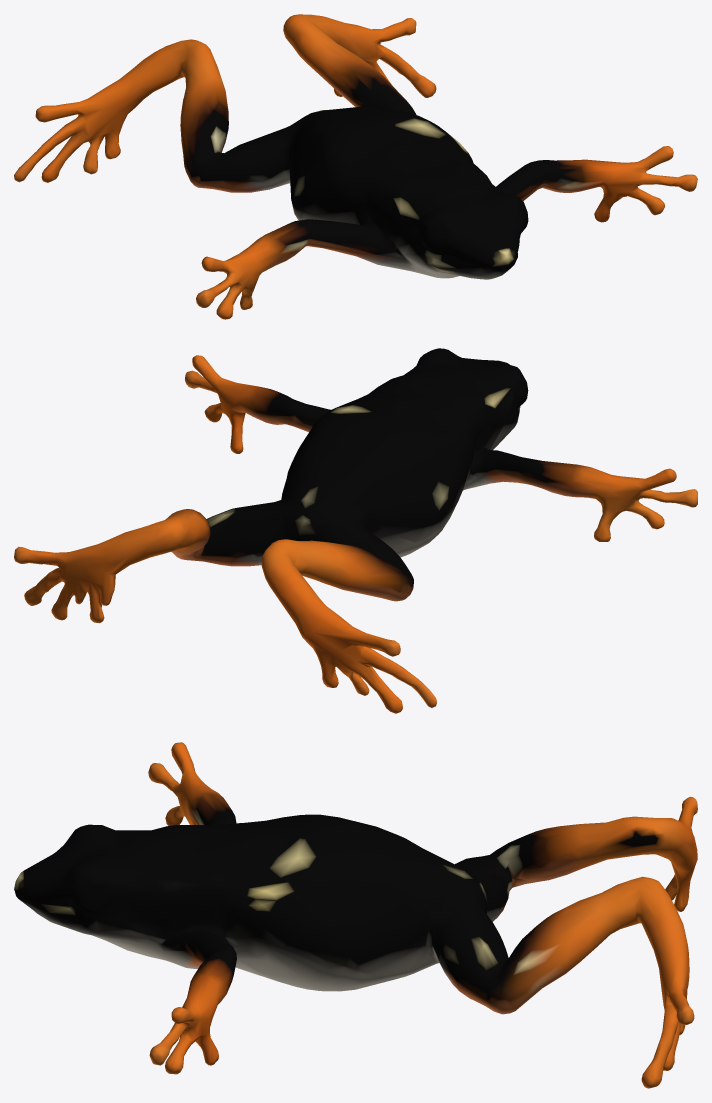
The model's file is reedfrog.swim.lo.glb.
3 renders of one model, top to bottom at view 1: azimuth 30°, elevation 25°; view 2: azimuth 150°, elevation 25°; view 3: azimuth 270°, elevation 25°, orthographic. The views are drawn at different scales.
Visible parts, largest first — view 1: reedfrog.swim; view 2: reedfrog.swim; view 3: reedfrog.swim.
Part boxes in pixels (x1=…): reedfrog.swim: x1=14, y1=14, x2=697, y2=319; reedfrog.swim: x1=14, y1=348, x2=697, y2=713; reedfrog.swim: x1=14, y1=742, x2=697, y2=1088.
Bounding box in the file's own units: 0.0437 × 0.011 × 0.044.
